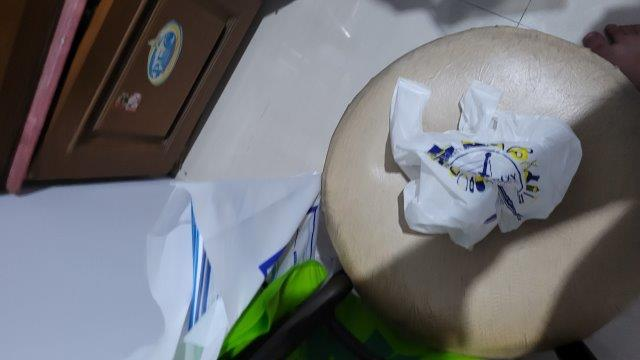plastik: (389, 76, 583, 252)
